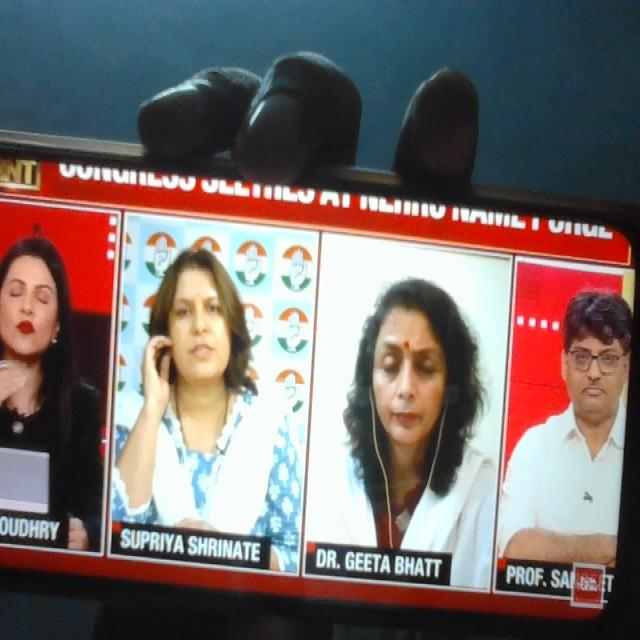fake: (360, 278, 462, 470)
